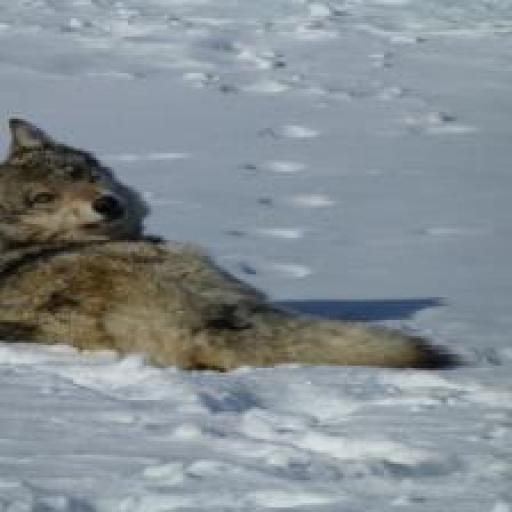wolf: (0, 112, 474, 401)
